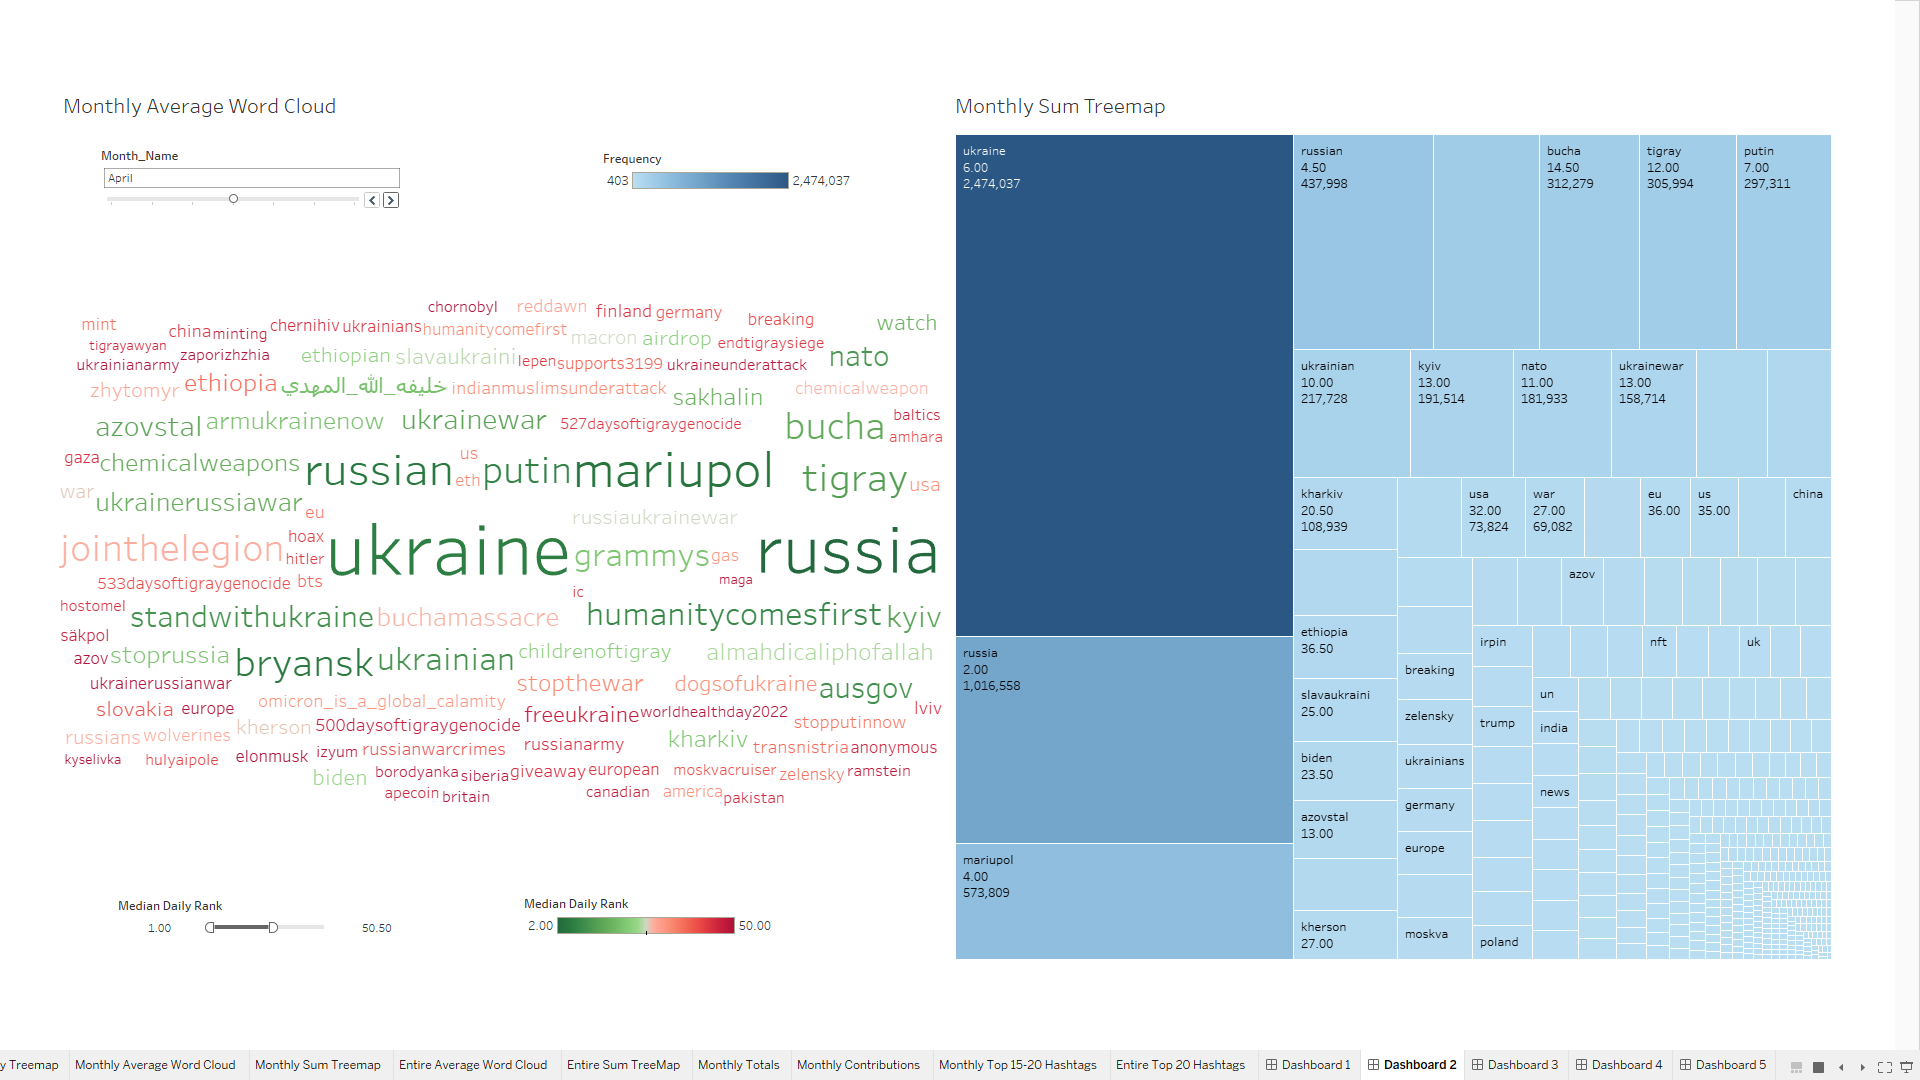

The dashboard page shown, as its layout file describes it:
{"tool":"tableau","page":{"name":"Dashboard 2","canvas":[1800,900],"ordinal":1},"visuals":[{"type":"worksheet","title":"Monthly Average Word Cloud","mark":"Text","box":[8,8,892,884]},{"type":"worksheet","title":"Monthly Sum Treemap","mark":"Automatic","box":[900,8,892,884]},{"type":"filter","title":"Monthly Average Word Cloud","param":"[federated.1b2v2m21slpcl81457r2p0nbsyjk].[none:Calculation_1442559315822010370:n","box":[54,72,302.4,84.4]},{"type":"legend","title":"Monthly Sum Treemap","param":"[federated.1b2v2m21slpcl81457r2p0nbsyjk].[sum:frequency:qk]","box":[556.2,75.4,252,85.5]},{"type":"filter","title":"Monthly Average Word Cloud","param":"[federated.1b2v2m21slpcl81457r2p0nbsyjk].[med:daily_rank:qk]","box":[71,822,302,78]}]}

Visuals, with their boxes on the page's 1800x900 design canvas (x1, y1, x2, y2). These are canvas units, not pixel positions in the 1920x1080 screenshot, which may show the page scaled, cropped or inside an application window:
"Monthly Average Word Cloud" worksheet (Text marks): 8,8,900,892
"Monthly Sum Treemap" worksheet: 900,8,1792,892
"Monthly Average Word Cloud" filter: 54,72,356,156
"Monthly Sum Treemap" legend: 556,75,808,161
"Monthly Average Word Cloud" filter: 71,822,373,900
